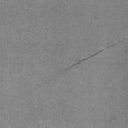finishing roll printing: (64, 36, 128, 72)
